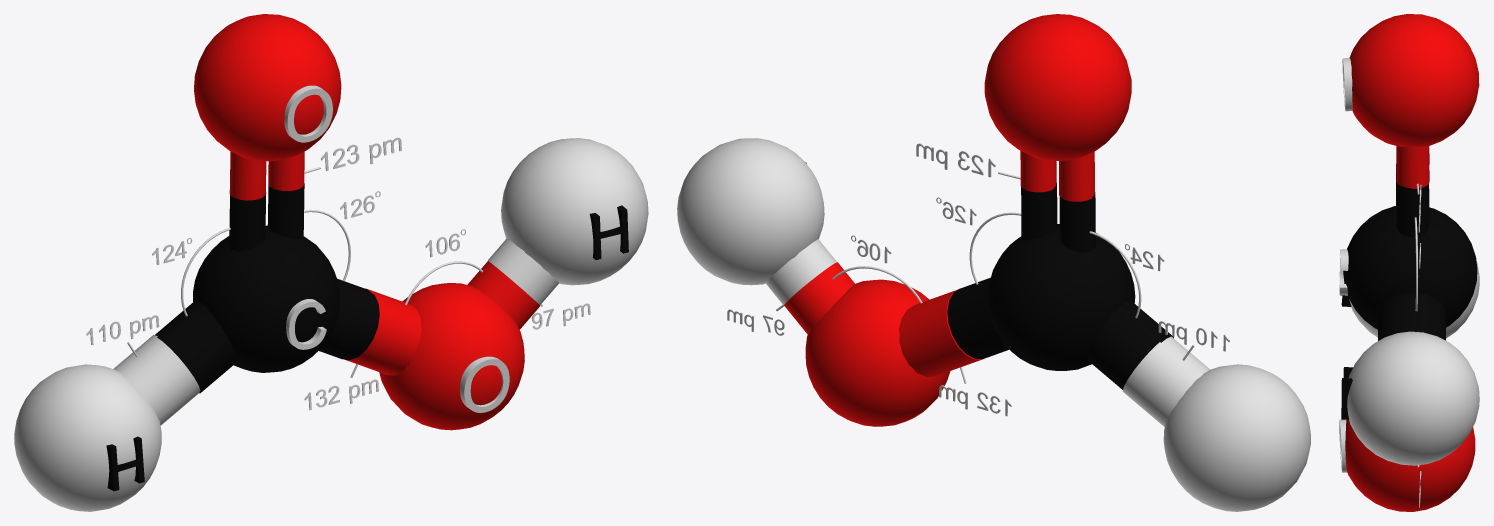
File: uploads_files_2040125_formicAcidLabel.FBX
3 views of the same model, side by side, from view 1: azimuth 30°, elevation 25°; view 2: azimuth 150°, elevation 25°; view 3: azimuth 270°, elevation 25° (orthographic). The views are drawn at different scales.
Parts seen in each view (by area): view 1: Sphere070, Sphere063, Sphere069, Sphere053, Sphere067, Cylinder156, Cylinder157, Cylinder154, Cylinder155, Cylinder141, Cylinder140, Cylinder135 (+8 smaller); view 2: Sphere063, Sphere070, Sphere069, Sphere053, Sphere067, Cylinder156, Cylinder154, Cylinder157, Cylinder155, Cylinder140, Cylinder141, Cylinder135 (+3 smaller); view 3: Sphere069, Sphere063, Sphere053, Sphere067, Cylinder155, Cylinder151, Cylinder152, Sphere070, Text082, Text090, Text075, Text093 (+1 smaller).
Part boxes in pixels (x1,y1,x2,y2): Sphere070: (14, 364, 161, 511); Sphere063: (194, 14, 341, 161); Sphere069: (501, 138, 648, 285); Sphere053: (193, 225, 339, 372); Sphere067: (379, 283, 524, 430); Cylinder156: (113, 335, 200, 425); Cylinder157: (155, 301, 236, 393); Cylinder154: (345, 288, 421, 375); Cylinder155: (319, 278, 379, 360); Cylinder141: (487, 238, 558, 304); Cylinder140: (467, 261, 539, 329); Cylinder135: (229, 193, 266, 251); Sphere063: (984, 14, 1131, 160); Sphere070: (1163, 364, 1310, 511); Sphere069: (677, 138, 824, 285); Sphere053: (987, 224, 1135, 370); Sphere067: (805, 279, 950, 426); Cylinder156: (1122, 336, 1209, 426); Cylinder154: (899, 289, 982, 376); Cylinder157: (1088, 301, 1173, 389); Cylinder155: (947, 277, 1008, 358); Cylinder140: (784, 262, 854, 334); Cylinder141: (765, 239, 836, 305); Cylinder135: (1059, 192, 1095, 252); Sphere069: (1347, 331, 1479, 465); Sphere063: (1349, 14, 1479, 147); Sphere053: (1343, 206, 1477, 329); Sphere067: (1341, 419, 1475, 511); Cylinder155: (1378, 293, 1445, 340); Cylinder151: (1396, 179, 1429, 237); Cylinder152: (1396, 146, 1429, 188); Sphere070: (1349, 261, 1479, 338); Text082: (1342, 58, 1352, 111); Text090: (1341, 367, 1352, 419); Text075: (1339, 249, 1348, 295); Text093: (1339, 419, 1347, 472).
Size of the model in its own units: 59.93 by 41.49 by 13.06.
